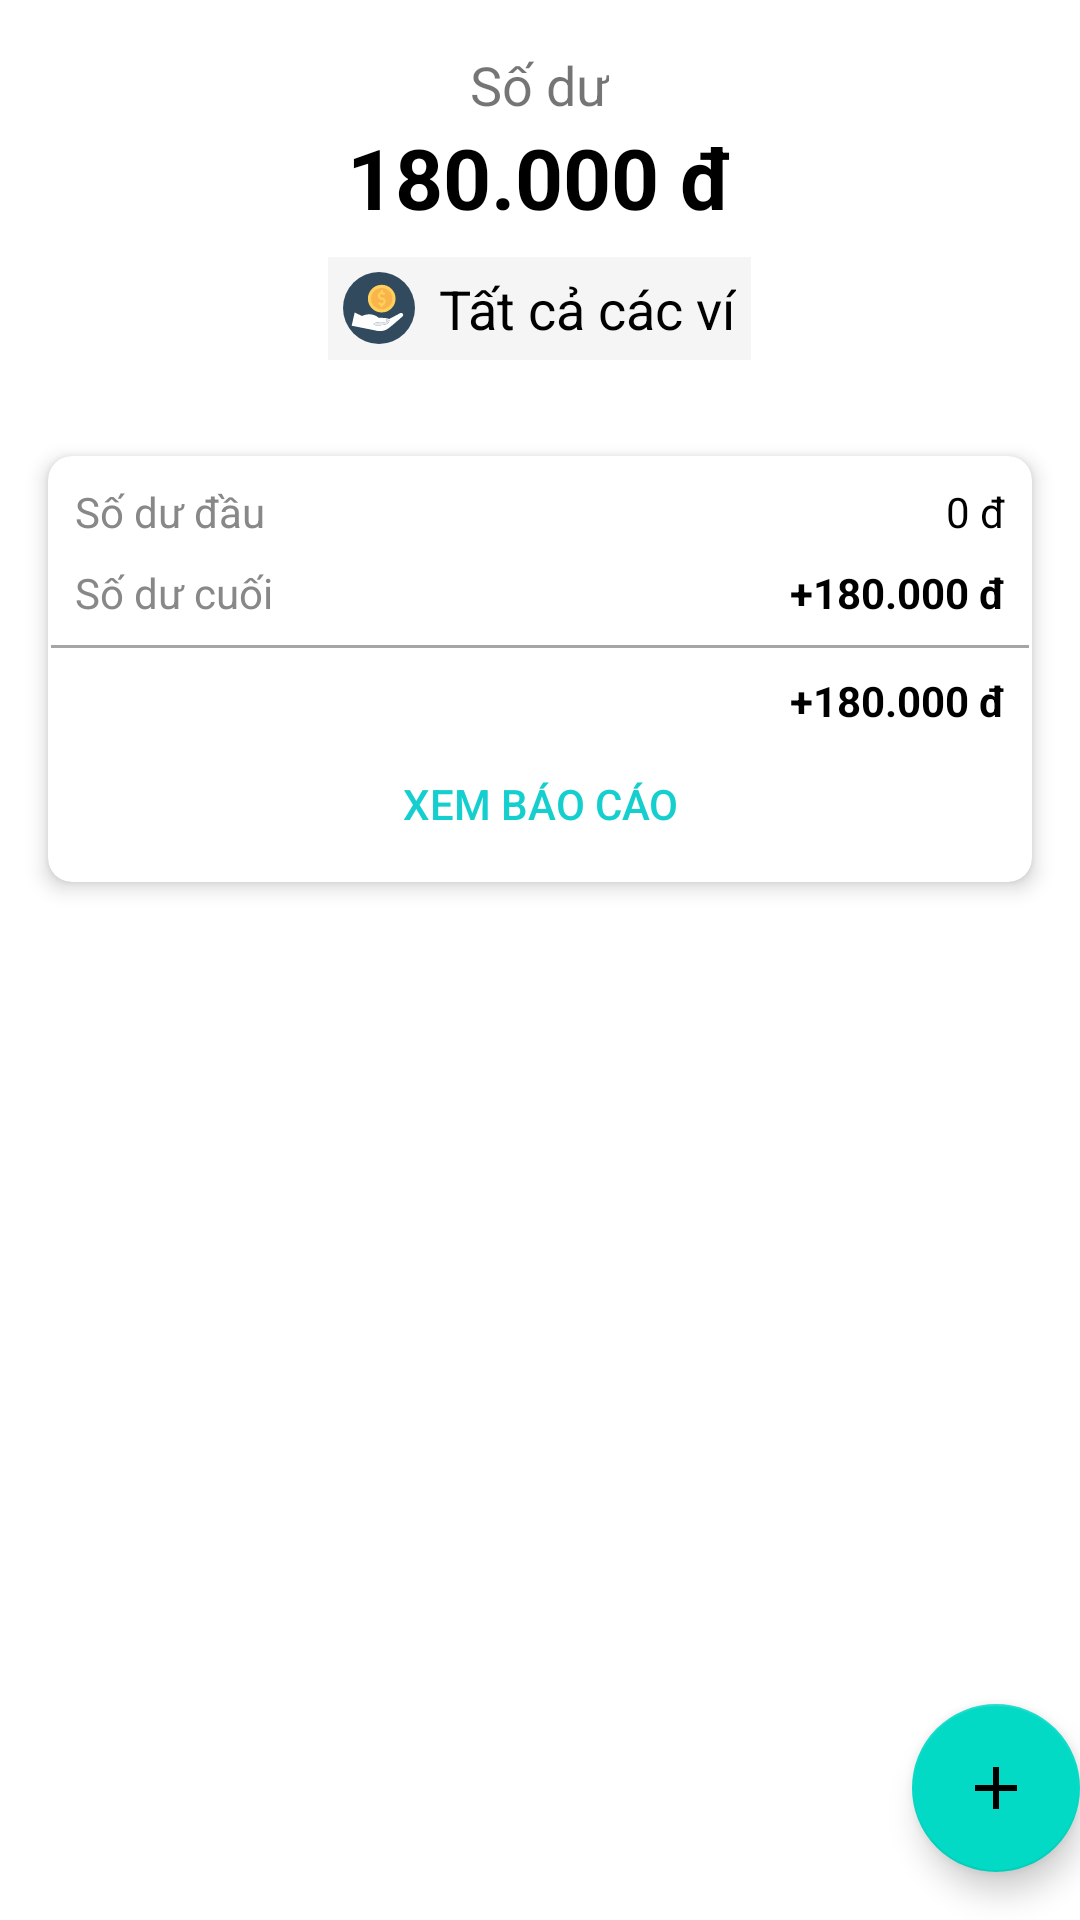

Screen size 1080px x 1920px. Icon name, then its center in pixels as [x,y]:
add: [996,1788]
allwallet: [379,308]
